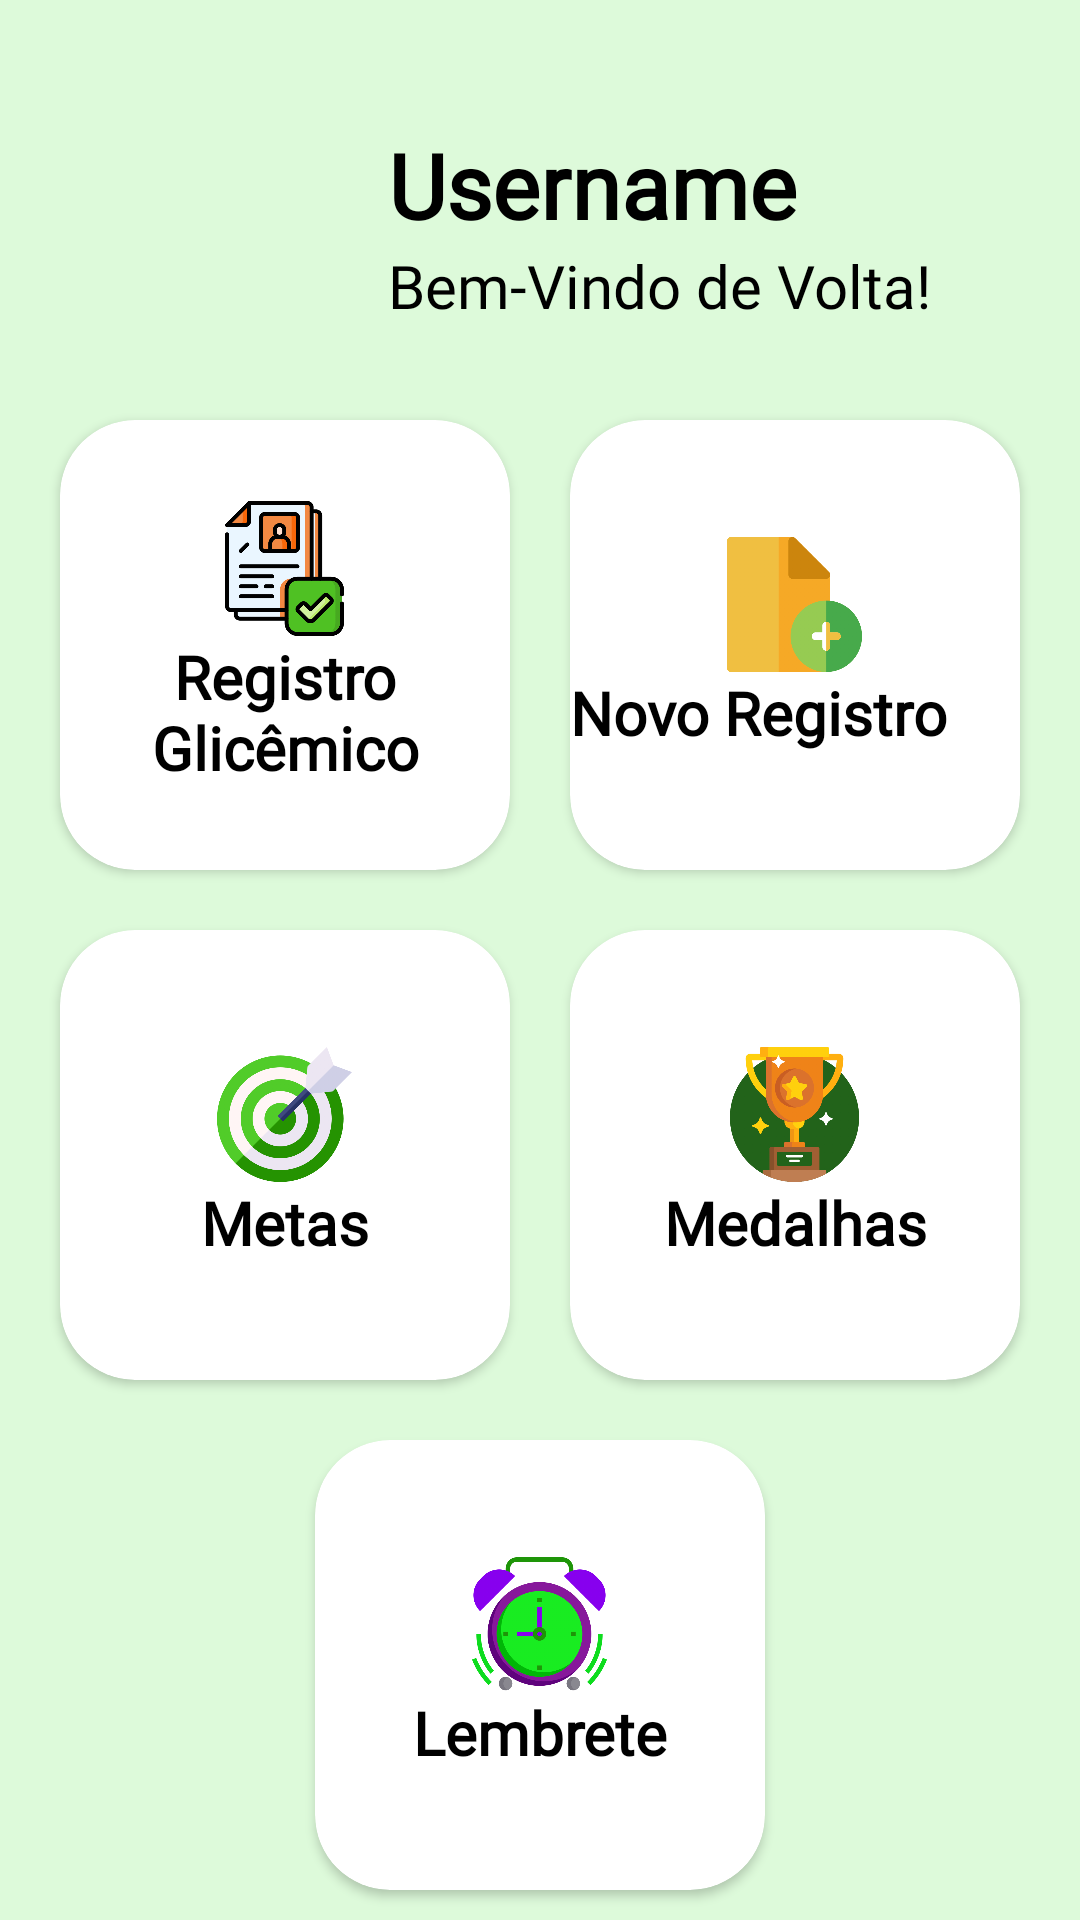

Screen size 1080px×1920px. Icon name, then its center in pixels as (x=x, y=y):
alarm: (x=539, y=1623)
missao: (x=284, y=1115)
